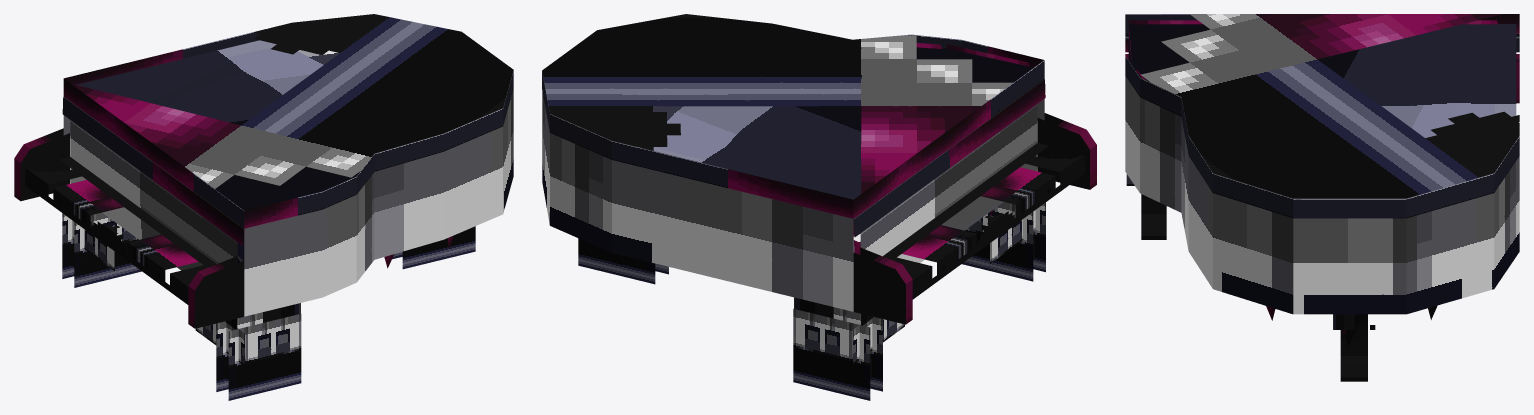
The model's file is piano.obj.
3 renders of one model, left to right at view 1: azimuth 30°, elevation 25°; view 2: azimuth 150°, elevation 25°; view 3: azimuth 270°, elevation 25°, orthographic. The views are drawn at different scales.
Parts seen in each view (by area): view 1: skl_root, piano_2, piano_1; view 2: skl_root, piano_2, piano_1; view 3: skl_root, piano_2, piano_1.
Boxes of the visible parts, x1=… form: skl_root: x1=14, y1=14, x2=513, y2=400; piano_2: x1=154, y1=32, x2=513, y2=268; piano_1: x1=63, y1=14, x2=460, y2=161; skl_root: x1=542, y1=14, x2=1096, y2=400; piano_2: x1=542, y1=14, x2=1044, y2=216; piano_1: x1=542, y1=70, x2=948, y2=254; skl_root: x1=1125, y1=14, x2=1519, y2=381; piano_2: x1=1125, y1=14, x2=1406, y2=218; piano_1: x1=1406, y1=14, x2=1519, y2=198.
Bounding box in the file's own units: 44.29 × 20.68 × 35.
1 material, 1 textured.
